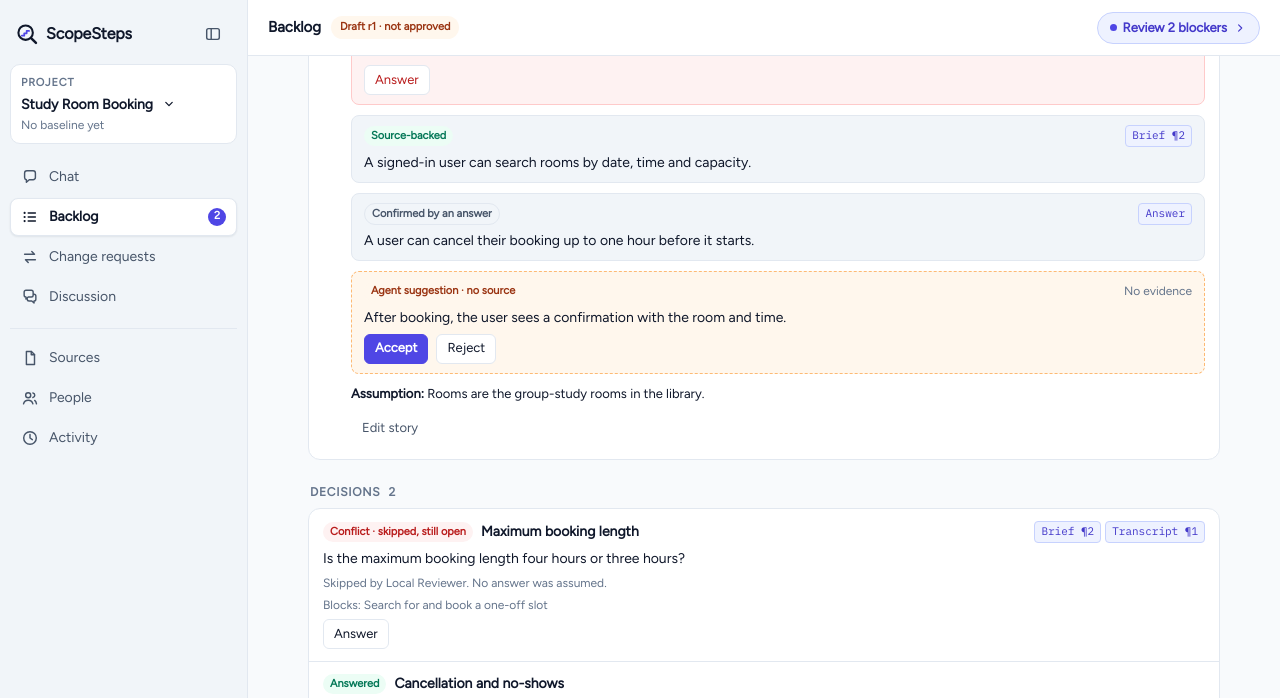
Editing a draft › does not save over another reviewer’s change: it asks for a reload instead of retrying
(page scrolled)
Click the button "Edit story" at coordinates (390, 428), box 351,413 -> 429,443
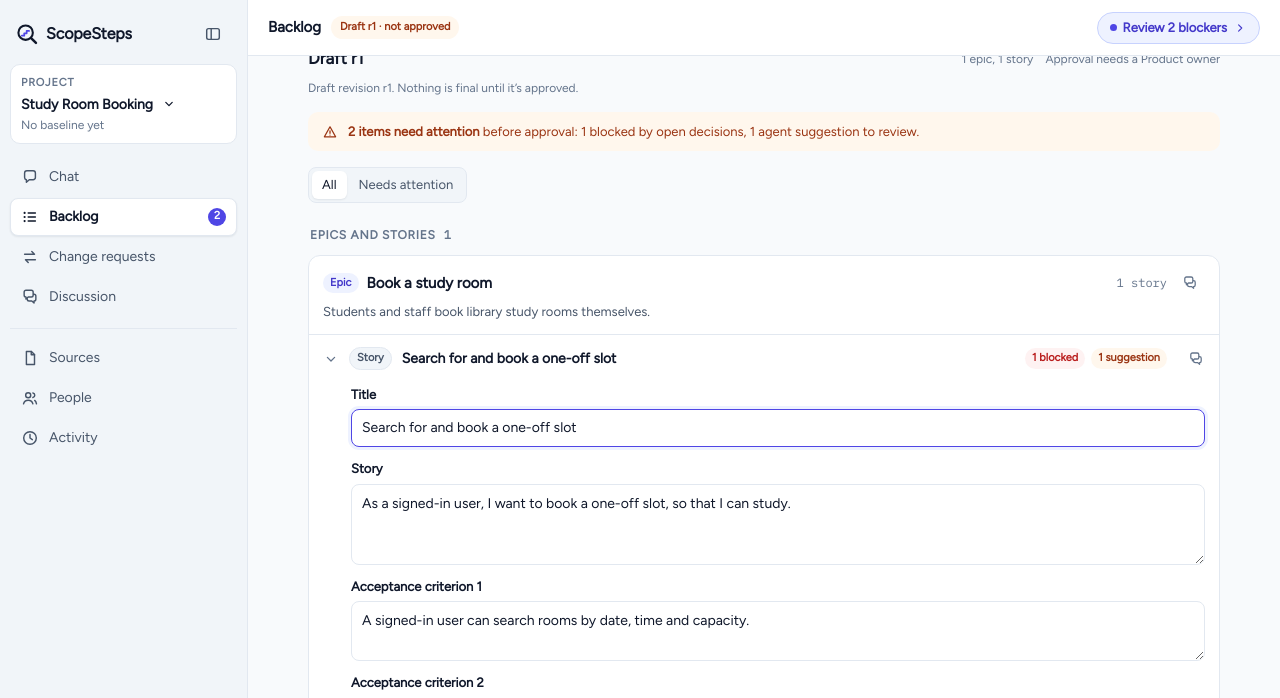
Type " today" into the field labelled "Title" at coordinates (778, 428), box 351,409 -> 1205,447
(page scrolled)
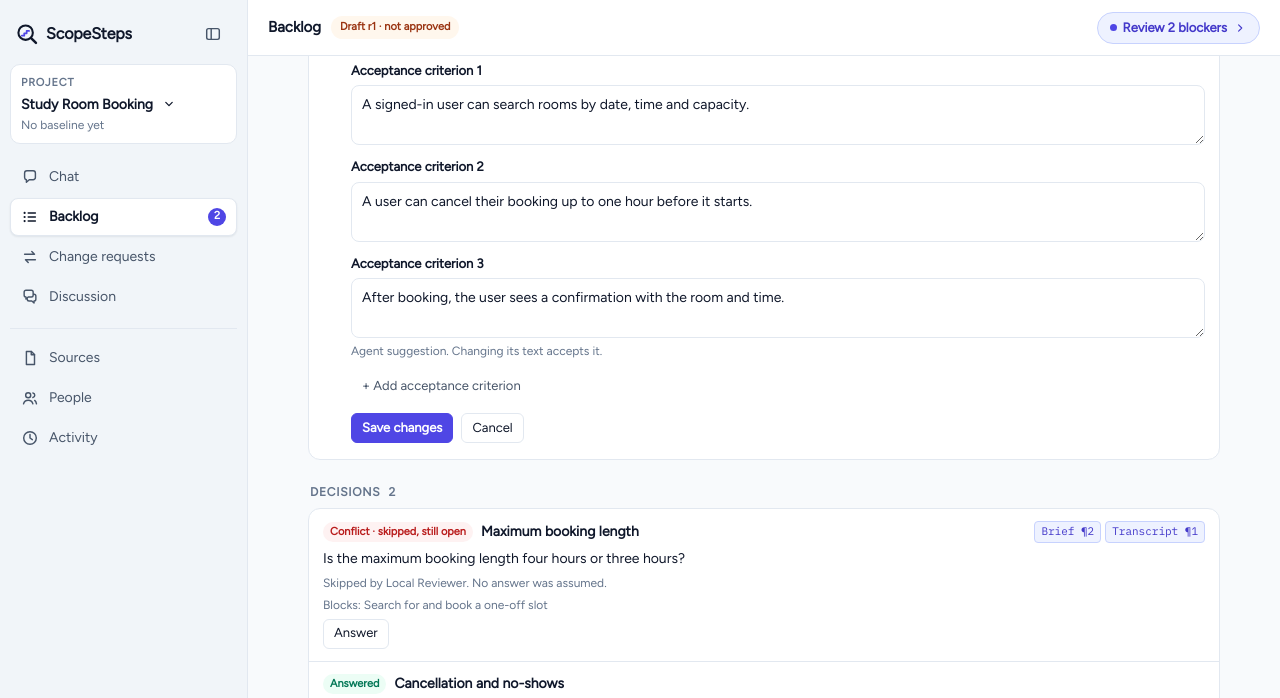
Click the button "Save changes" at coordinates (402, 428), box 351,413 -> 453,443
(page scrolled)
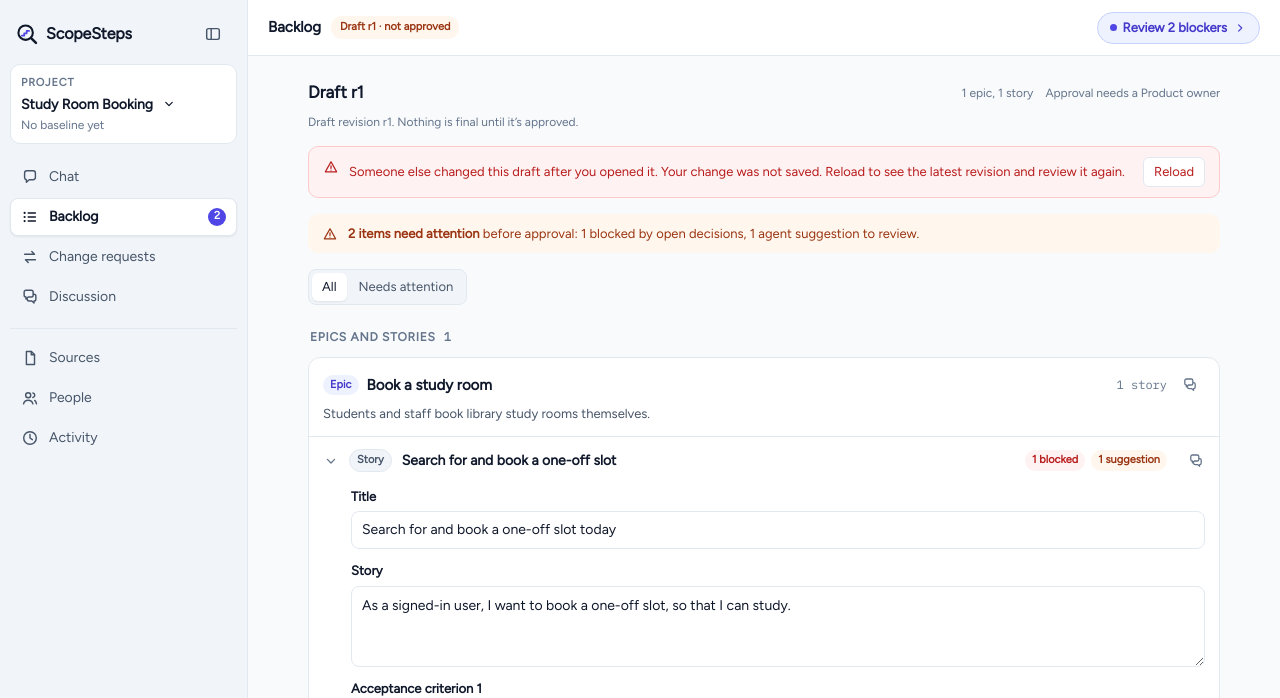
Now the 1st message shows "Someone else changed this draft after you opened it. Your change was not saved.", box 308,146 -> 1220,198
Click the button "Reload" at coordinates (1174, 172), box 1143,156 -> 1205,186
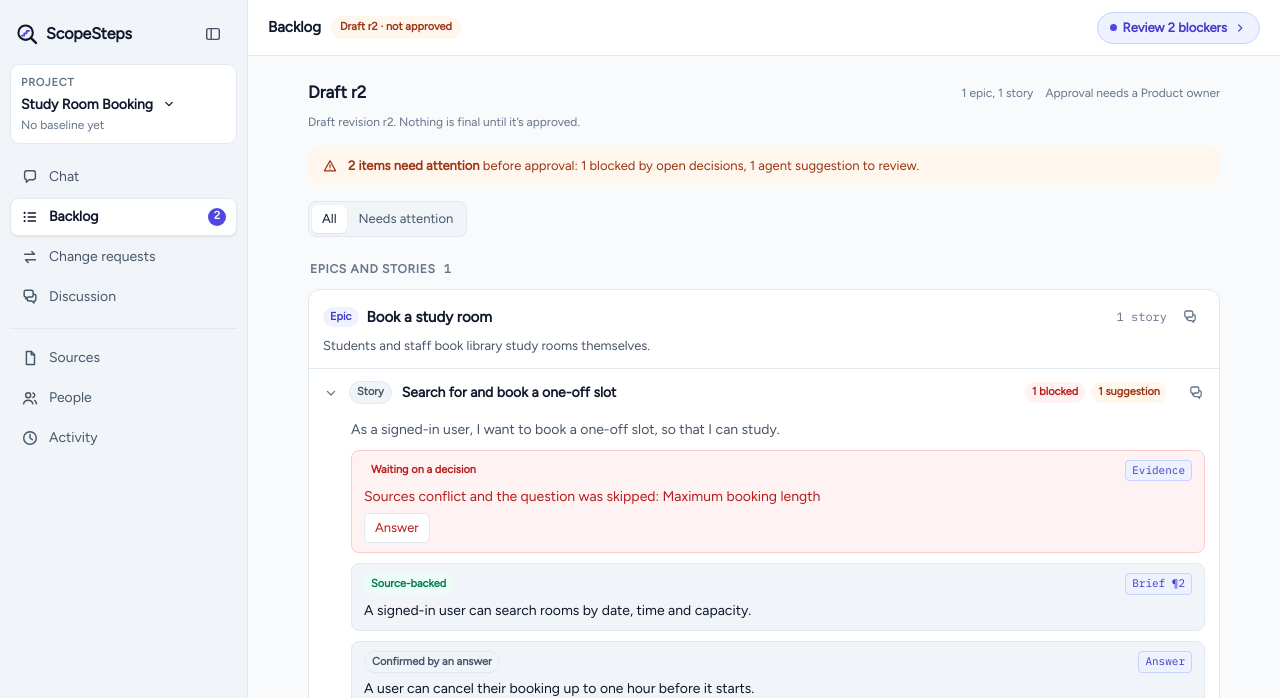
Now the heading "Draft r2" is shown, box 308,80 -> 366,106
